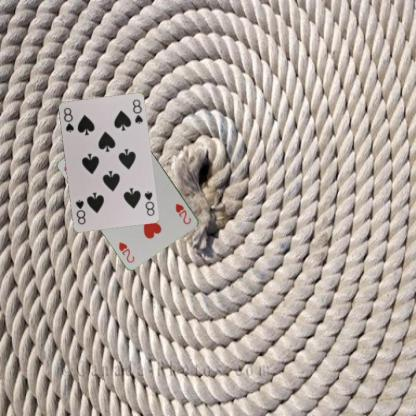2h: (173, 201, 193, 226)
8s: (142, 188, 156, 217), (61, 105, 74, 134)
